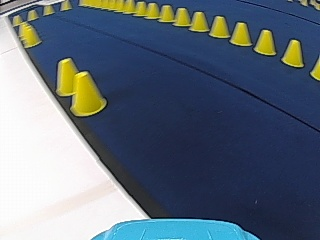cone: (69, 69, 107, 116), (55, 57, 81, 96), (281, 38, 304, 68), (254, 29, 276, 56), (229, 21, 251, 46), (209, 15, 229, 38), (21, 24, 40, 46), (190, 11, 208, 32), (174, 8, 190, 27), (159, 4, 174, 22), (310, 54, 319, 82), (145, 3, 159, 19), (135, 1, 146, 16), (122, 0, 133, 13)
